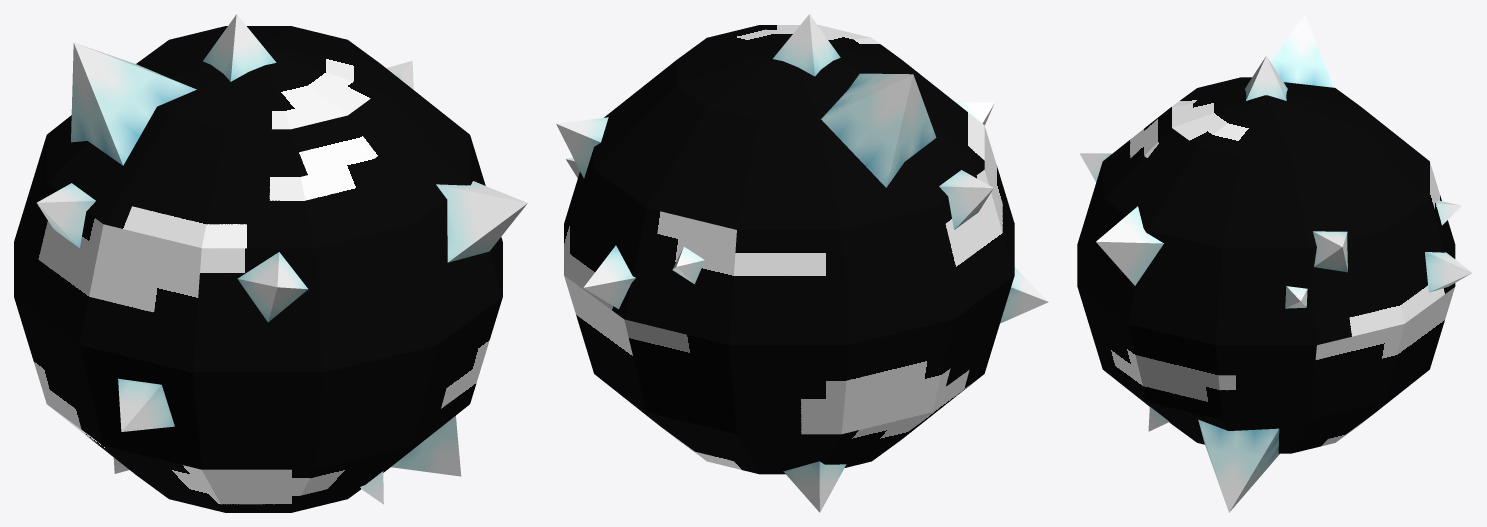
Rendered from World_2_Model.fbx.
The picture shows the model from 3 angles, left to right: view 1: azimuth 30°, elevation 25°; view 2: azimuth 150°, elevation 25°; view 3: azimuth 270°, elevation 25°; orthographic projection. The views are drawn at different scales.
Parts seen in each view (by area): view 1: sphere1, sphere2, pyramid, pyramid_7, pyramid_8, pyramid_2, pyramid_4, pyramid_1, pyramid_3; view 2: sphere1, sphere2, pyramid, pyramid_2, pyramid_3, pyramid_9, pyramid_5, pyramid_6, pyramid_4, pyramid_10; view 3: sphere1, sphere2, pyramid_1, pyramid_7, pyramid, pyramid_6, pyramid_9, pyramid_2, pyramid_11.
Part boxes in pixels (box(x1,y1,x2,y2)): sphere1: box(14, 26, 502, 512); sphere2: box(14, 93, 502, 512); pyramid: box(71, 42, 196, 165); pyramid_7: box(436, 181, 527, 262); pyramid_8: box(237, 252, 308, 322); pyramid_2: box(203, 14, 276, 81); pyramid_4: box(118, 378, 174, 431); pyramid_1: box(391, 416, 461, 476); pyramid_3: box(37, 183, 95, 248); sphere1: box(564, 25, 1014, 474); sphere2: box(564, 62, 1014, 473); pyramid: box(821, 73, 936, 187); pyramid_2: box(773, 14, 840, 76); pyramid_3: box(939, 170, 993, 229); pyramid_9: box(583, 245, 635, 309); pyramid_5: box(783, 461, 846, 512); pyramid_6: box(556, 117, 608, 178); pyramid_4: box(1000, 267, 1048, 323); pyramid_10: box(672, 247, 704, 283); sphere1: box(1077, 77, 1455, 453); sphere2: box(1077, 113, 1454, 453); pyramid_1: box(1198, 419, 1279, 512); pyramid_7: box(1096, 206, 1163, 285); pyramid: box(1270, 14, 1333, 87); pyramid_6: box(1313, 231, 1347, 272); pyramid_9: box(1425, 252, 1471, 292); pyramid_2: box(1245, 56, 1287, 100); pyramid_11: box(1285, 286, 1307, 308).
Size of the model in its own units: 144 by 153 by 144.
Materials: 3 (3 with a texture image).
